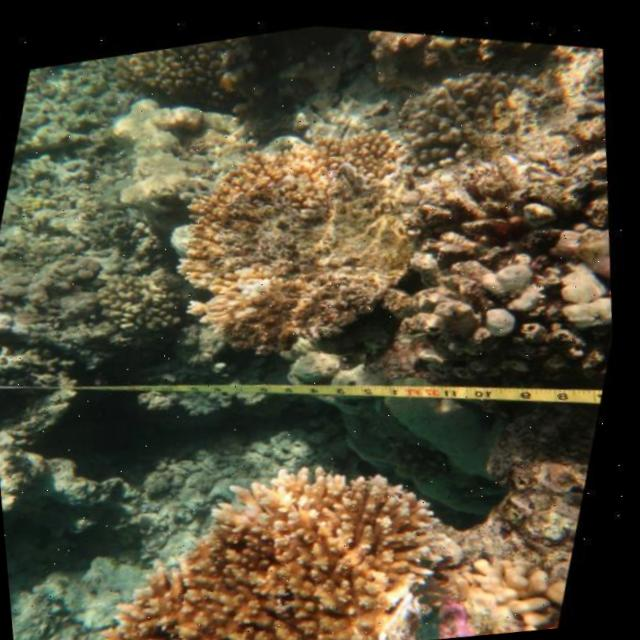Healthy Coral: (79, 423, 491, 640), (420, 524, 590, 640)
